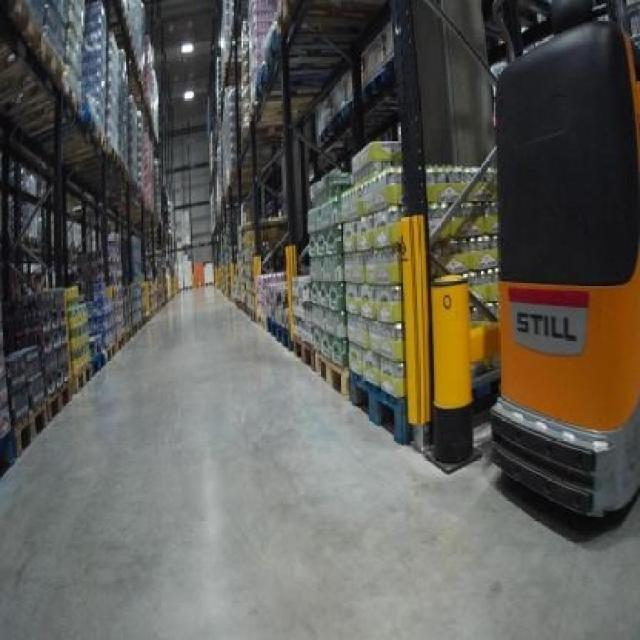floor: (0, 286, 637, 637)
pallets: (491, 0, 637, 512), (294, 138, 495, 469)
